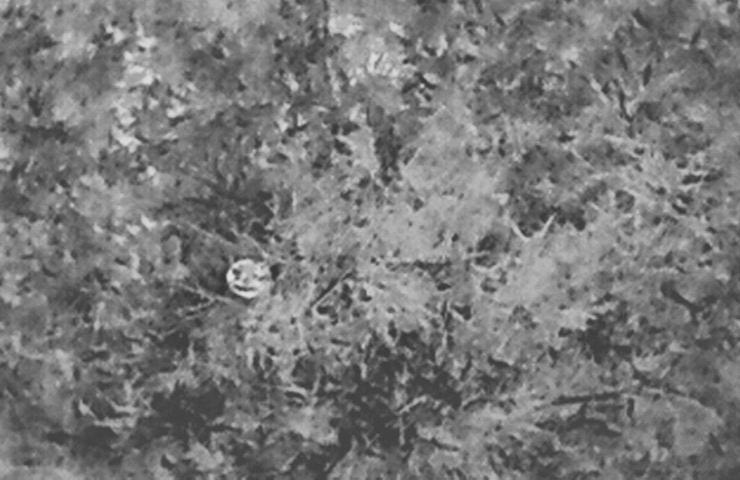landmines: (224, 257, 276, 300)
